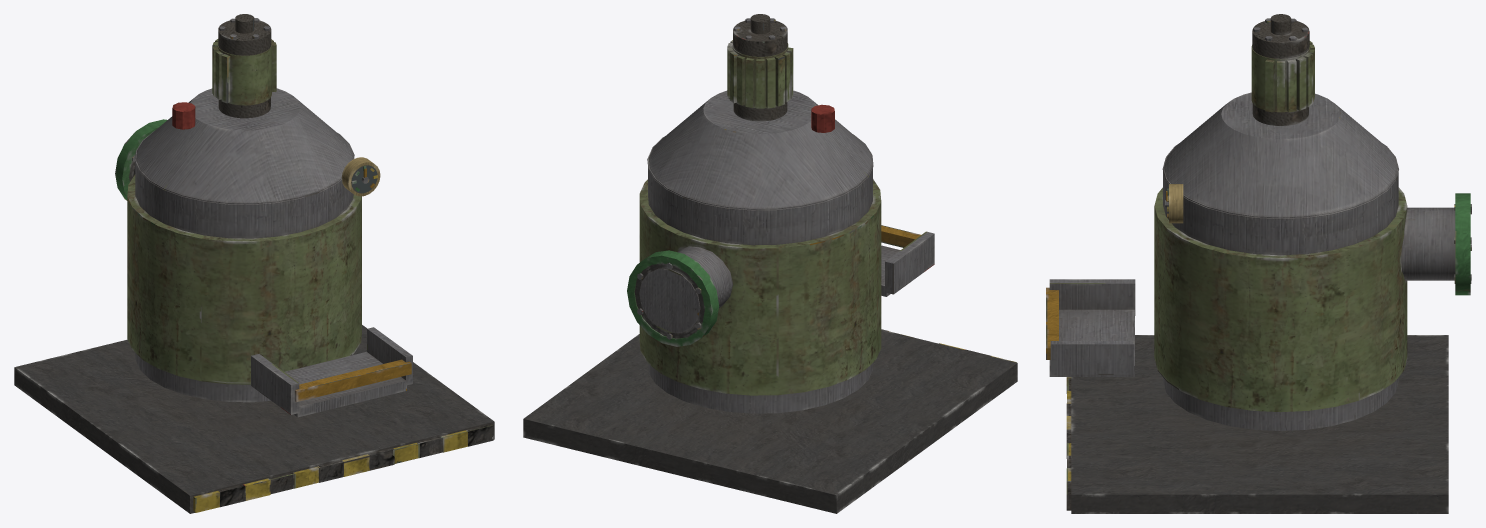
File: fePolymerReactor_HD.fbx
3 renders of one model, left to right at view 1: azimuth 30°, elevation 25°; view 2: azimuth 150°, elevation 25°; view 3: azimuth 270°, elevation 25°, orthographic. The views are drawn at different scales.
Visible parts, largest first — view 1: fePolymerReactor_Base, fePolymerReactor_Motor, fePolymerReactor_Fittings; view 2: fePolymerReactor_Base, fePolymerReactor_Motor, fePolymerReactor_Fittings; view 3: fePolymerReactor_Base, fePolymerReactor_Motor, fePolymerReactor_Fittings.
Part boxes in pixels (left/top/right/bottom): fePolymerReactor_Base: left=14, top=88, right=494, bottom=513; fePolymerReactor_Motor: left=212, top=14, right=276, bottom=118; fePolymerReactor_Fittings: left=172, top=102, right=380, bottom=196; fePolymerReactor_Base: left=523, top=90, right=1017, bottom=513; fePolymerReactor_Motor: left=727, top=14, right=793, bottom=121; fePolymerReactor_Fittings: left=811, top=104, right=834, bottom=132; fePolymerReactor_Base: left=1046, top=92, right=1471, bottom=513; fePolymerReactor_Motor: left=1251, top=14, right=1314, bottom=125; fePolymerReactor_Fittings: left=1167, top=184, right=1183, bottom=223.
Size of the model in its own units: 0.9012 by 1.1 by 1.02.
Materials: 1 (1 with a texture image).
